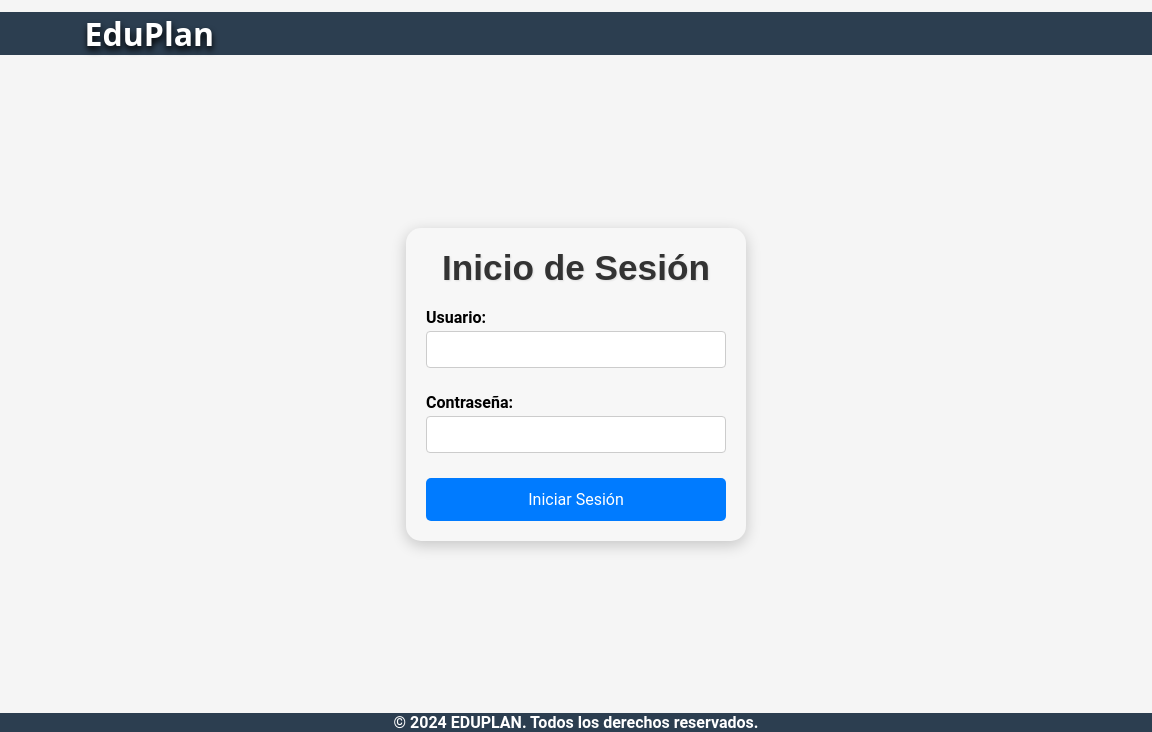
Test case: Pruebas de inicio de sesión con errores › Debe mostrar un mensaje de error al dejar campos vacíos
Note: Dejamos los campos vacíos
Click the button with test id "submit-button".
click(576, 500)  # box [426,478,726,521]
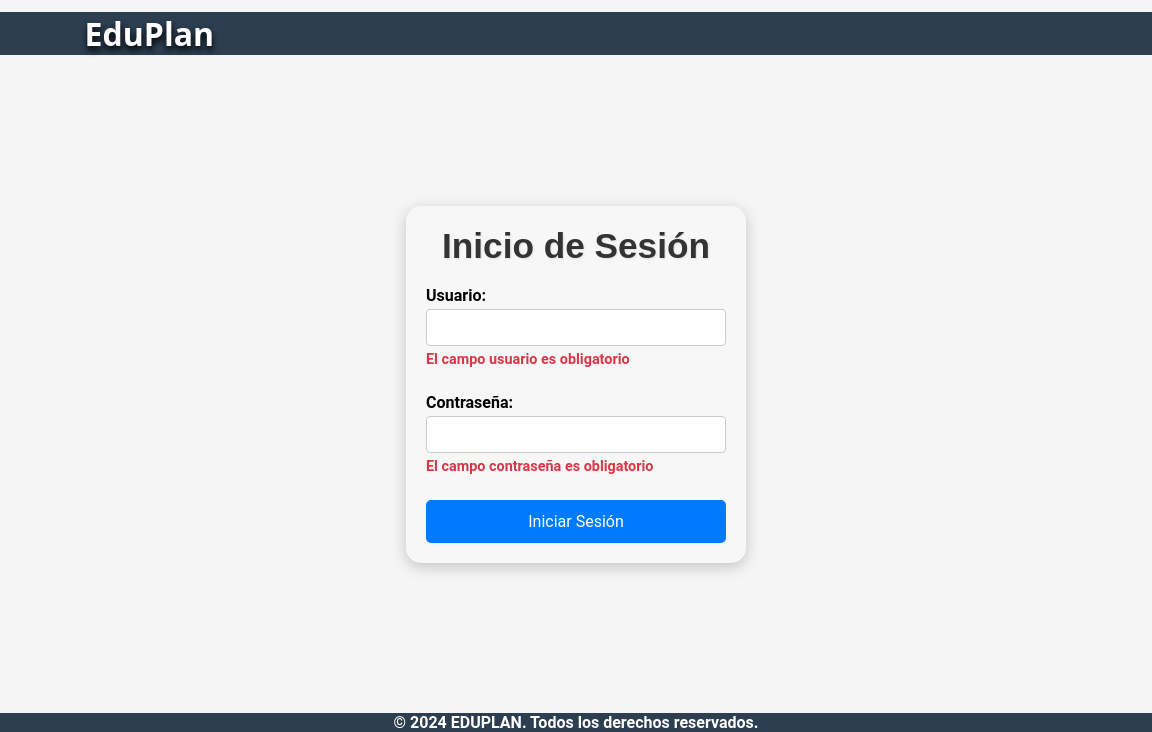
Now the text "El campo usuario es obligatorio" is shown, box [426,286,726,368]
Now the text "El campo contraseña es obligatorio" is shown, box [426,393,726,475]
